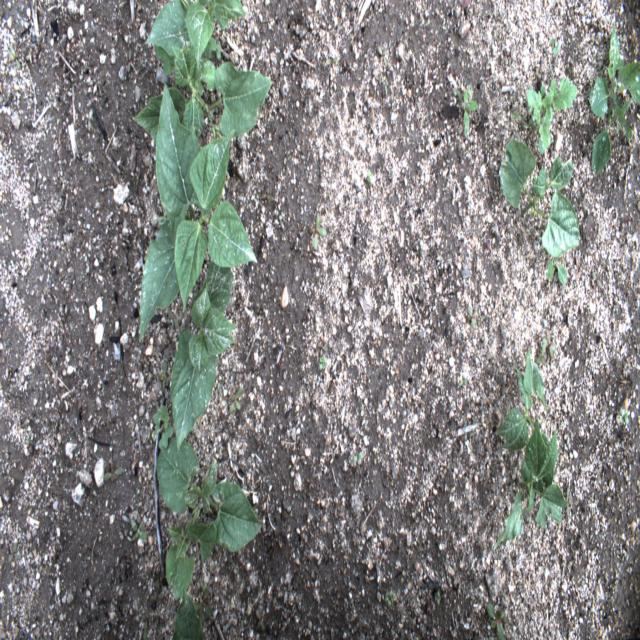crop: (134, 84, 256, 340), (132, 2, 276, 144), (154, 439, 266, 602), (173, 261, 233, 447), (497, 132, 582, 254), (489, 427, 574, 548), (589, 20, 638, 181), (514, 76, 581, 156), (496, 348, 547, 452), (173, 578, 217, 639)
weed: (146, 360, 173, 448), (452, 78, 482, 140), (372, 41, 392, 98), (118, 506, 147, 545), (535, 324, 559, 370), (483, 594, 508, 637), (104, 444, 126, 489), (310, 209, 332, 251), (4, 535, 23, 573), (4, 32, 21, 74), (587, 265, 607, 299), (540, 258, 568, 282), (544, 34, 562, 67), (226, 382, 244, 414), (464, 295, 480, 330), (351, 444, 371, 467), (617, 402, 631, 434), (364, 162, 381, 187), (24, 316, 44, 337), (417, 281, 432, 307), (260, 184, 278, 204), (316, 350, 329, 375), (0, 124, 14, 145)
